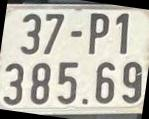-: (70, 31, 82, 37)
.: (82, 100, 87, 104)
1: (116, 14, 127, 53)
3: (4, 63, 22, 104), (21, 14, 39, 54)
5: (59, 62, 77, 104)
6: (96, 63, 114, 103)
7: (45, 14, 64, 54)
8: (32, 63, 50, 104)
9: (123, 62, 141, 103)
P: (90, 13, 109, 54)
